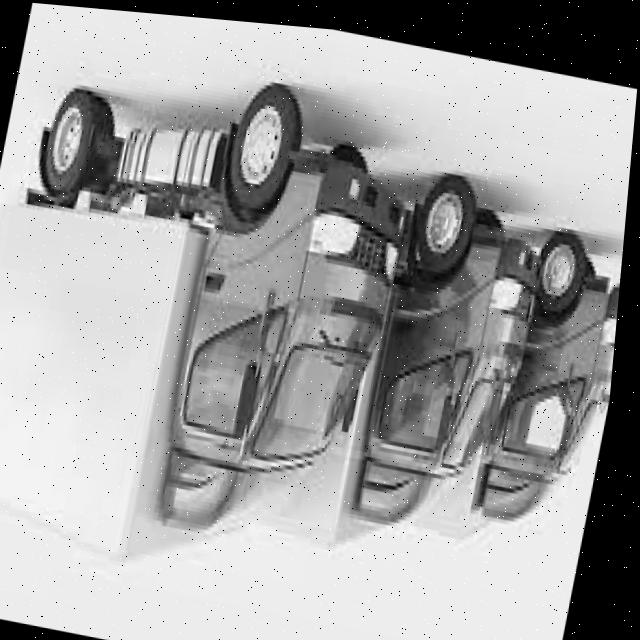truck: (121, 58, 434, 586), (325, 149, 563, 551), (472, 208, 629, 537)
